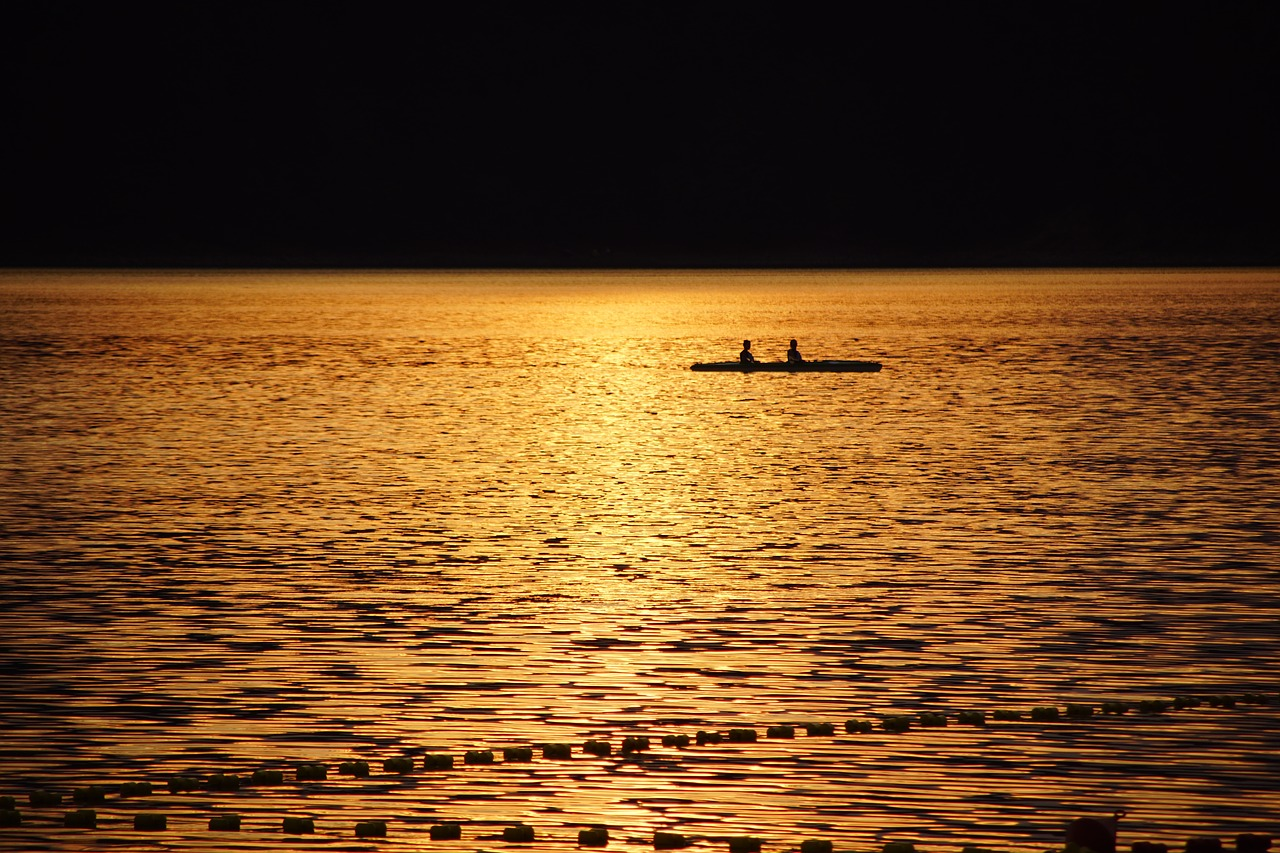kayak: (688, 357, 886, 375)
